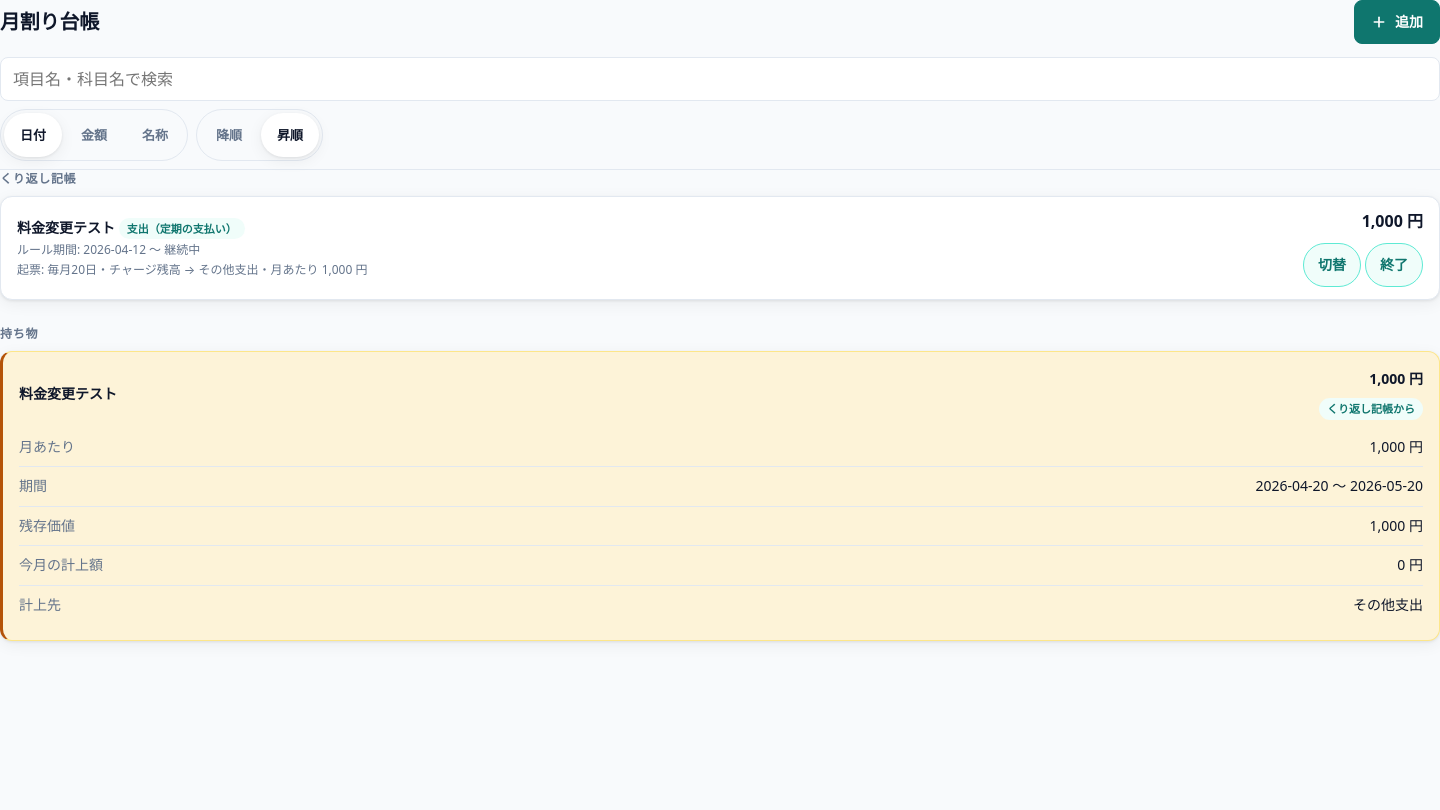
Scenario: 定期ルールの金額変更範囲 › 保存本体の後の再読込だけが失敗しても、保存済みとして判断画面を閉じる
The width and height of the screenshot is (1440, 810).
Click the button with aria-label "編集: 料金変更テスト".
click(66, 227)  # box [1,197,1439,299]
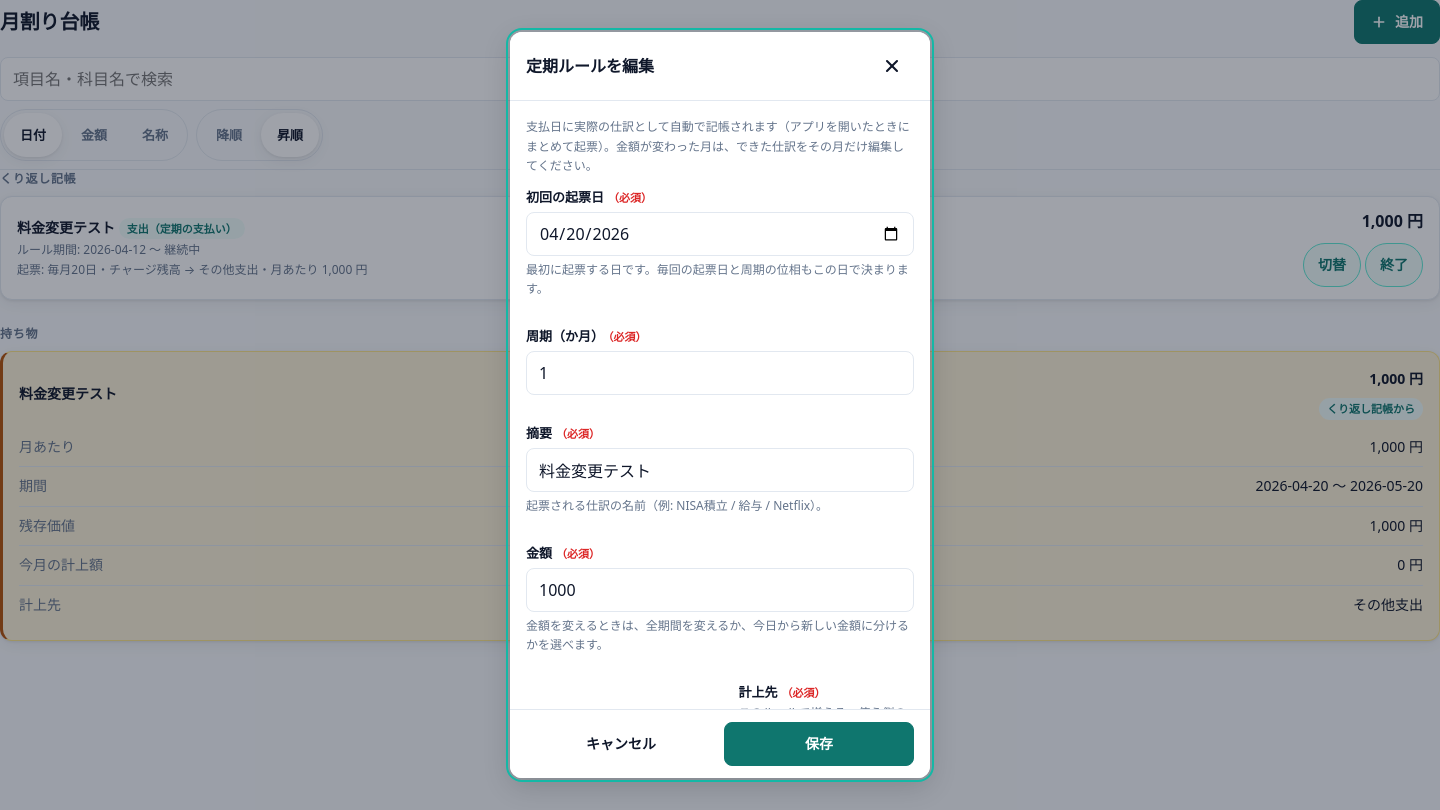
Replace the text in the field labelled "金額（必須）" with "1500" at (720, 590), box [526,568,914,612]
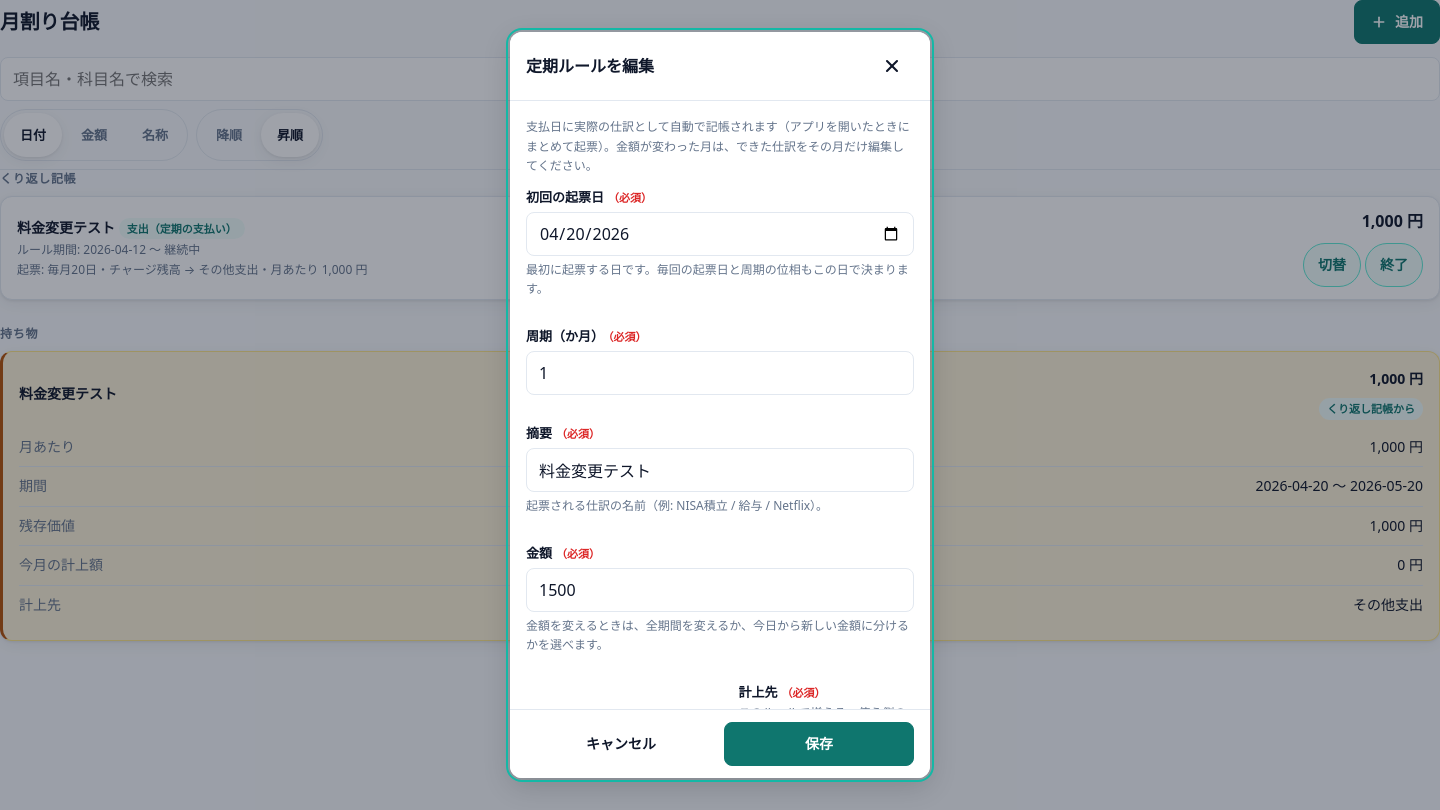
Click the button "保存".
click(819, 744)  # box [724,722,914,766]
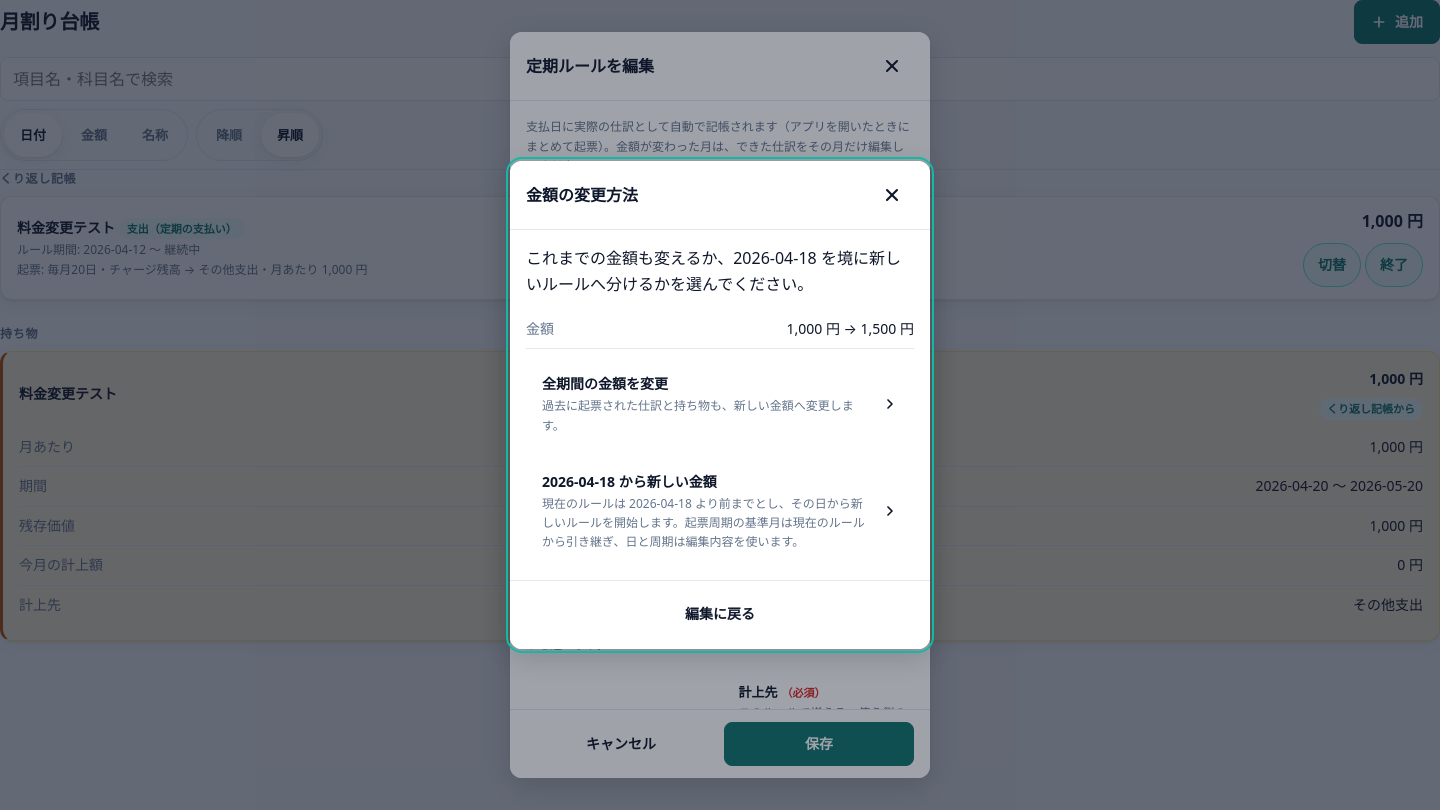
Click the button that starts with "2026-04-18 から新しい金額".
click(720, 511)  # box [526,459,914,564]
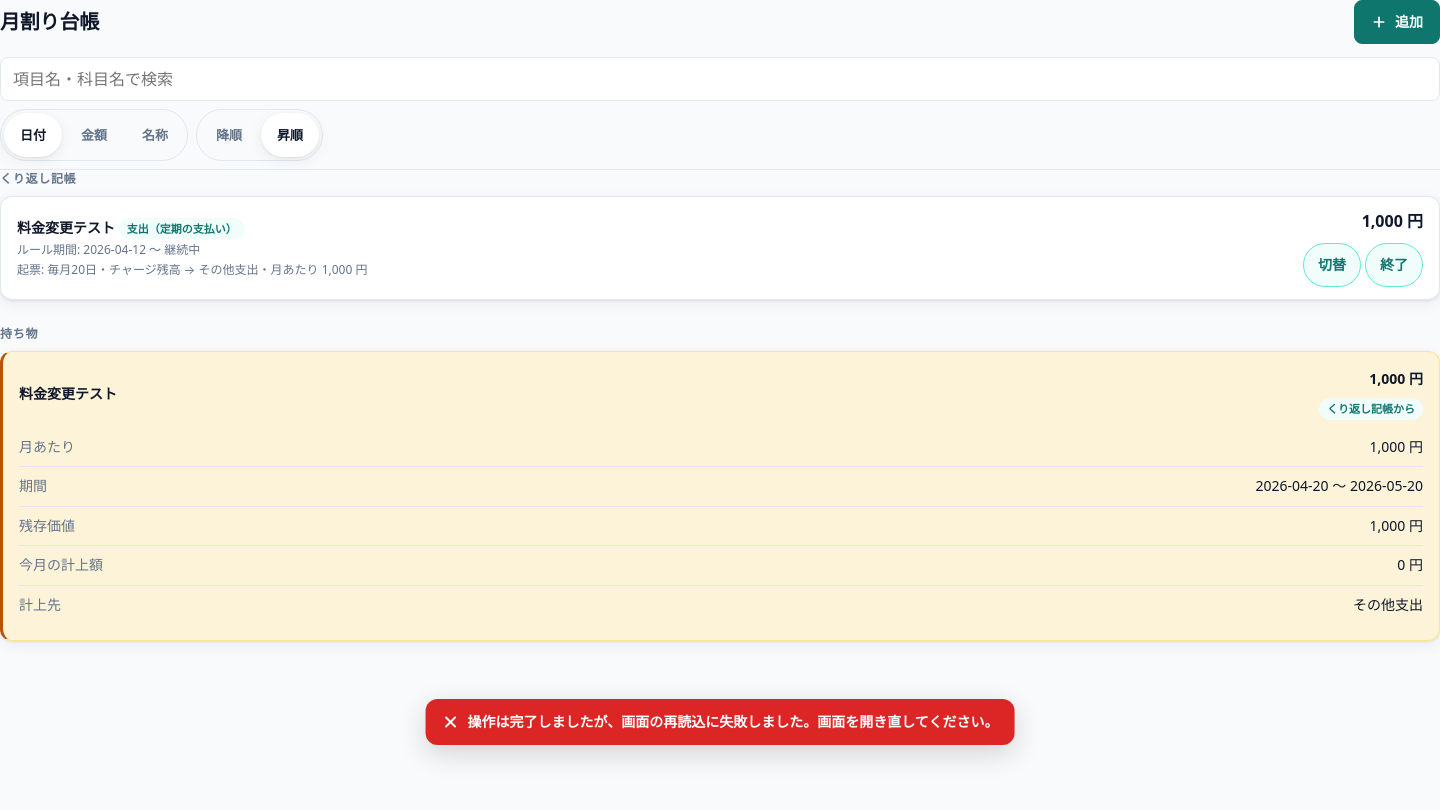
Expected: the text "操作は完了しましたが、画面の再読込に失敗しました。画面を開き直してください。" is shown, [468,711,998,733]
